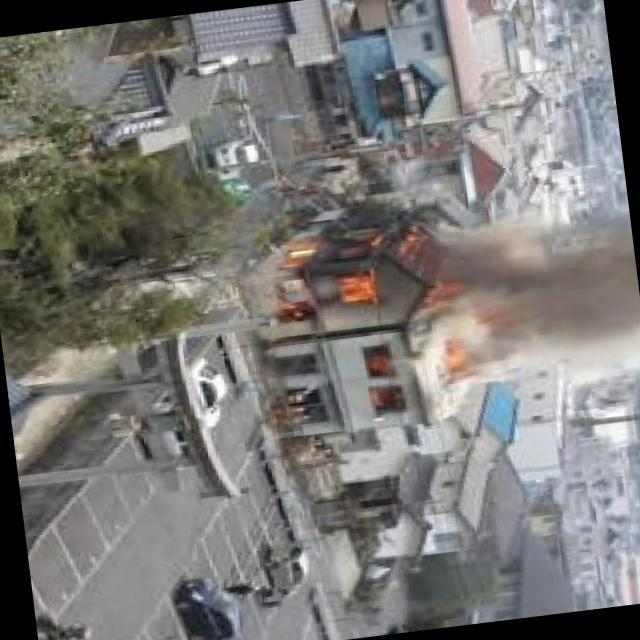Fire: (253, 206, 446, 331), (355, 336, 408, 415)
